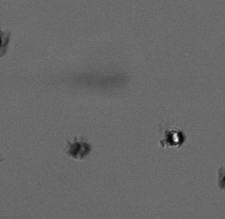Dead Cell: (66, 140, 90, 160)
Living Cell: (163, 128, 185, 148)
